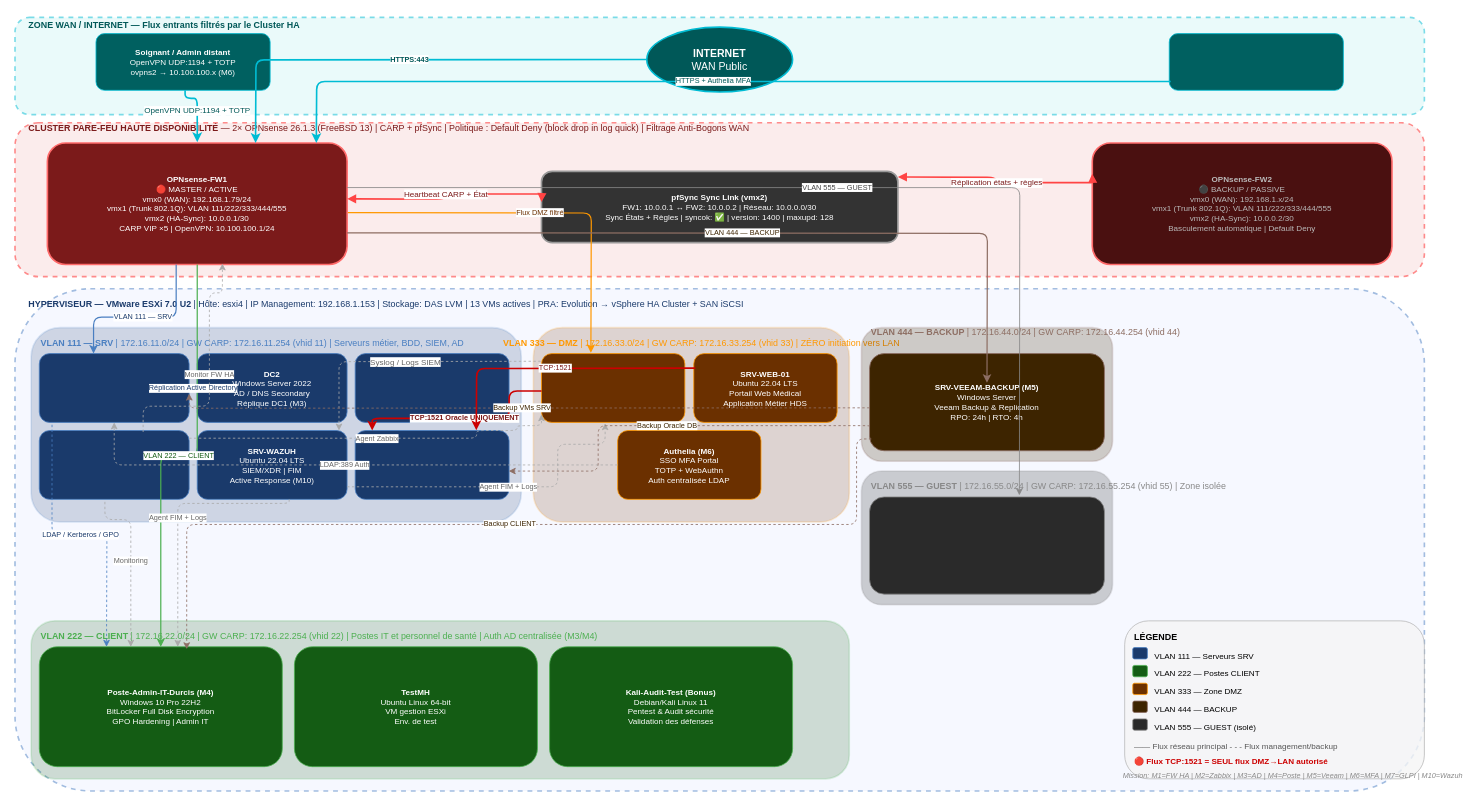
This 1477x805 diagram has some shape labels left out. Here are the shapes that lost their labels. From the top down, the box of each, then its label:
(1168, 33, 1343, 90): Client Web (Soignant) Portail HTTPS:443 Authelia TOTP/WebAuthn (M6)
(38, 353, 189, 422): DC1 Windows Server 2022 AD / DNS / DHCP Primary FSMO Roles (M3)
(354, 353, 509, 422): Serveur GLPI Ubuntu 22.04 LTS ITSM Ticketing (M7) CMDB + HelpDesk
(541, 353, 685, 422): SRV-PROXY-01 Ubuntu 22.04 LTS Nginx Reverse Proxy TLS Termination
(38, 430, 189, 499): SRV-ZABBIX Ubuntu 22.04 LTS Supervision Zabbix 6.x SNMP/Agent (M2)
(354, 430, 509, 499): SRV-ORACLE-DB-01 Oracle Linux 9 BDD Oracle | Port 1521 Dossiers Patients HDS
(869, 496, 1104, 594): Zone GUEST Internet uniquement Aucun accès LAN/SRV Isolation totale
